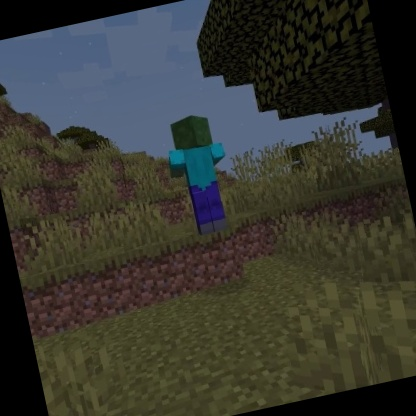zombie: (156, 107, 245, 245)
